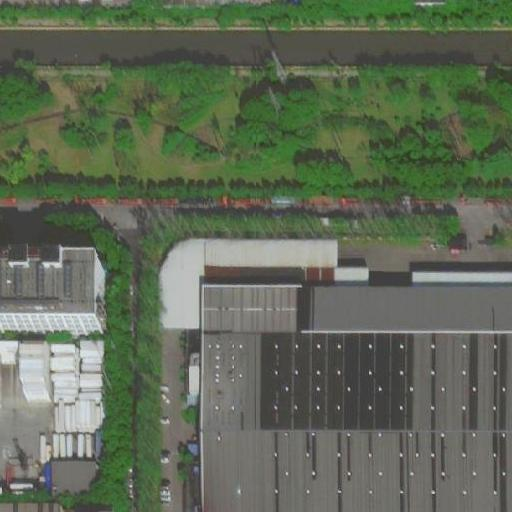building: (193, 331, 512, 512), (310, 282, 512, 331), (196, 233, 349, 289), (4, 255, 103, 331), (202, 287, 311, 334), (154, 240, 201, 328), (0, 333, 38, 391), (47, 377, 96, 414), (48, 459, 97, 493)
